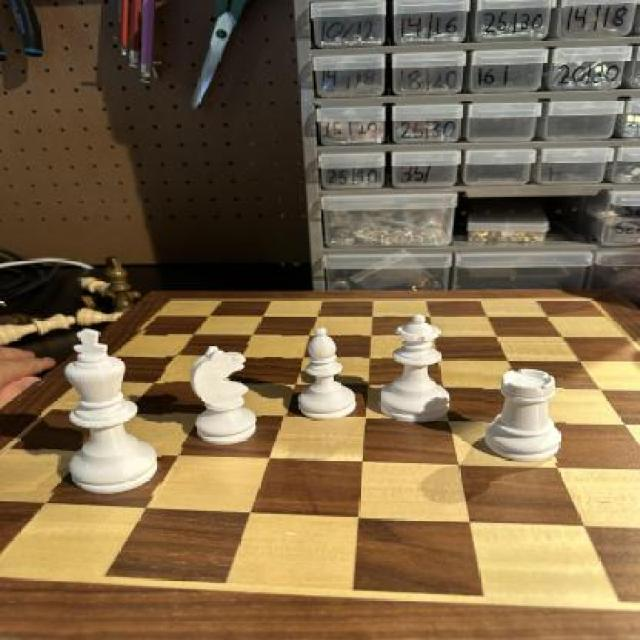black-rook: (283, 328, 366, 426)
white-bishop: (38, 328, 165, 495)
white-king: (172, 343, 265, 450)
white-pawn: (382, 312, 458, 426)
white-queen: (483, 368, 567, 465)
